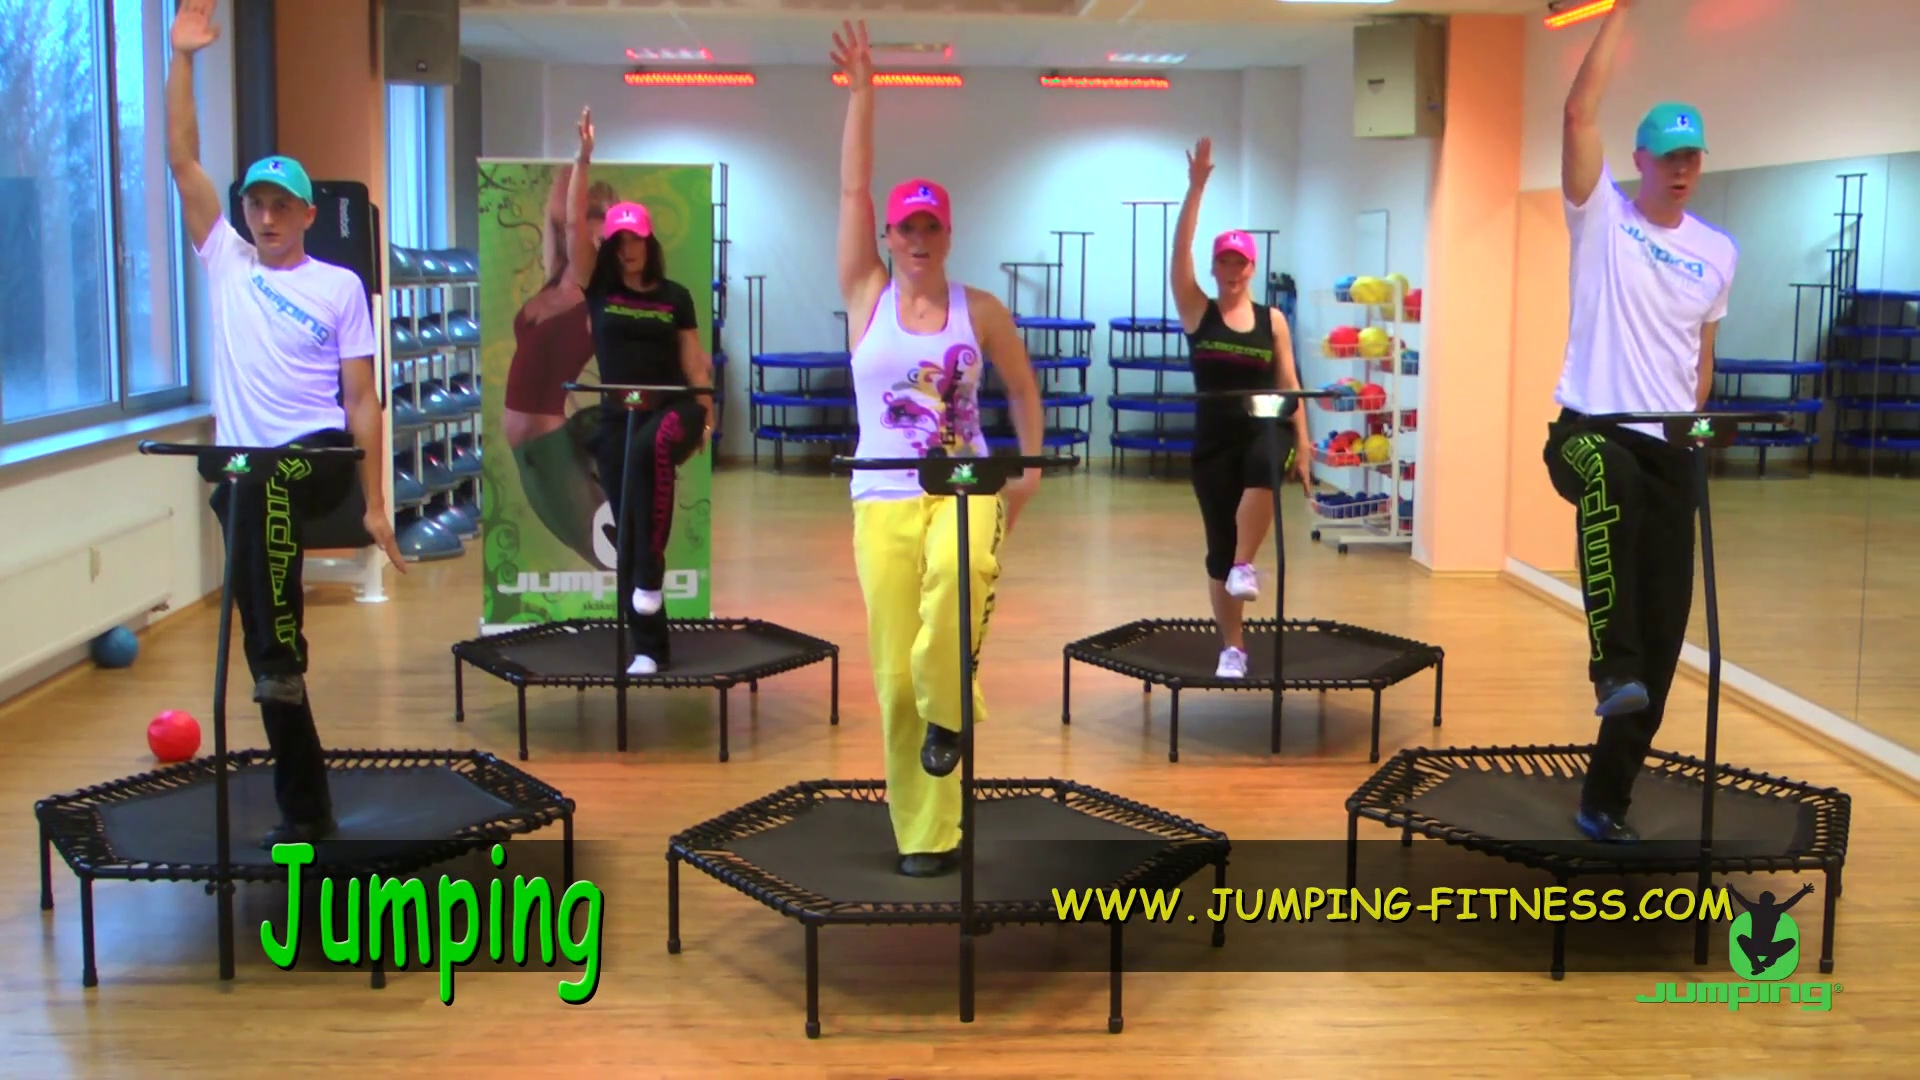person: (163, 1, 410, 850), (828, 16, 1043, 877), (1544, 1, 1739, 842), (566, 105, 716, 677), (1169, 136, 1312, 679)
